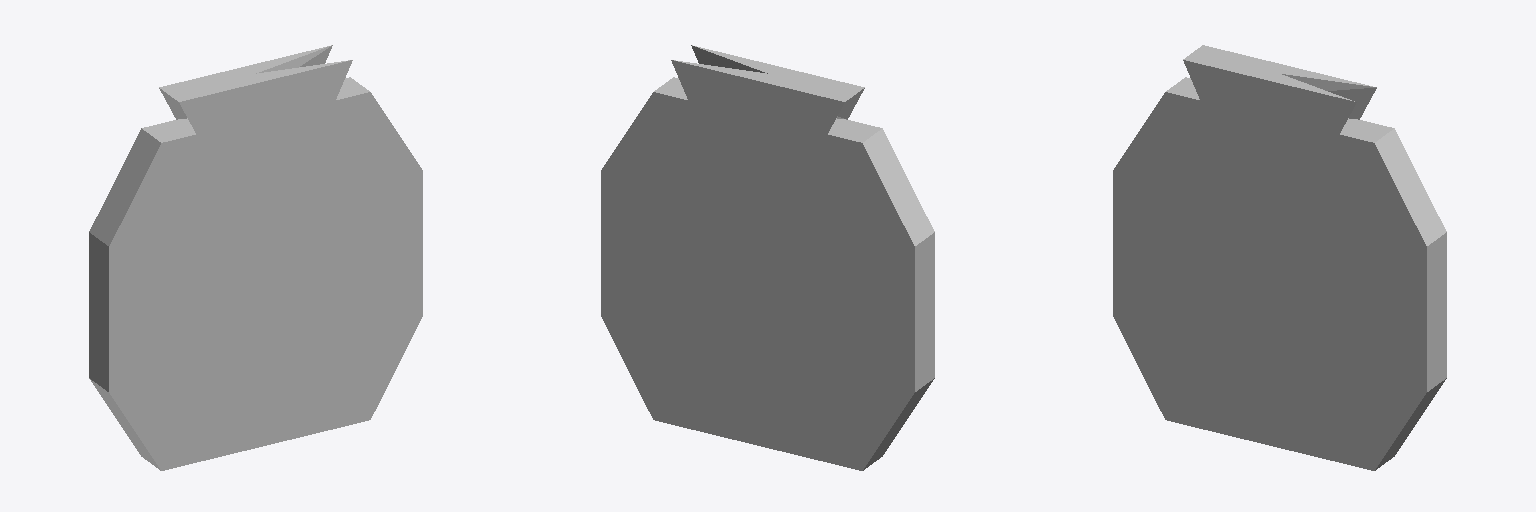
Rendered from hoodie.obj.
3 renders of one model, left to right at view 1: azimuth 30°, elevation 25°; view 2: azimuth 150°, elevation 25°; view 3: azimuth 330°, elevation 25°, orthographic.
Size of the model in its own units: 3.6 by 4 by 0.4.